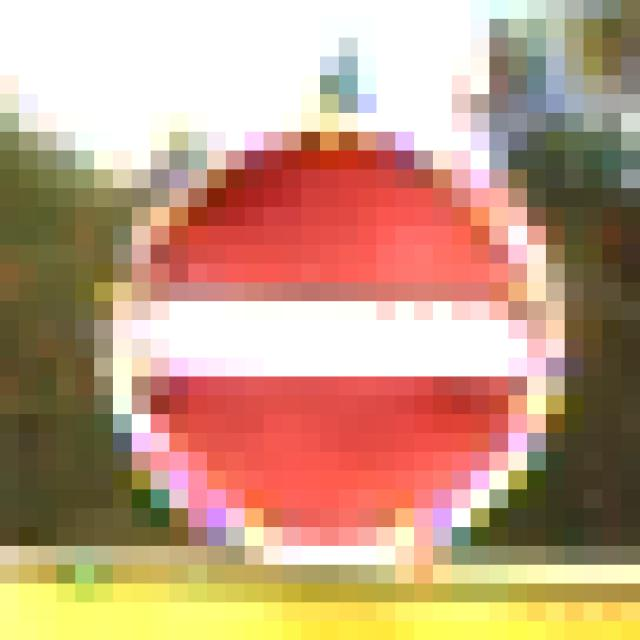No Entry: (95, 95, 547, 547)
